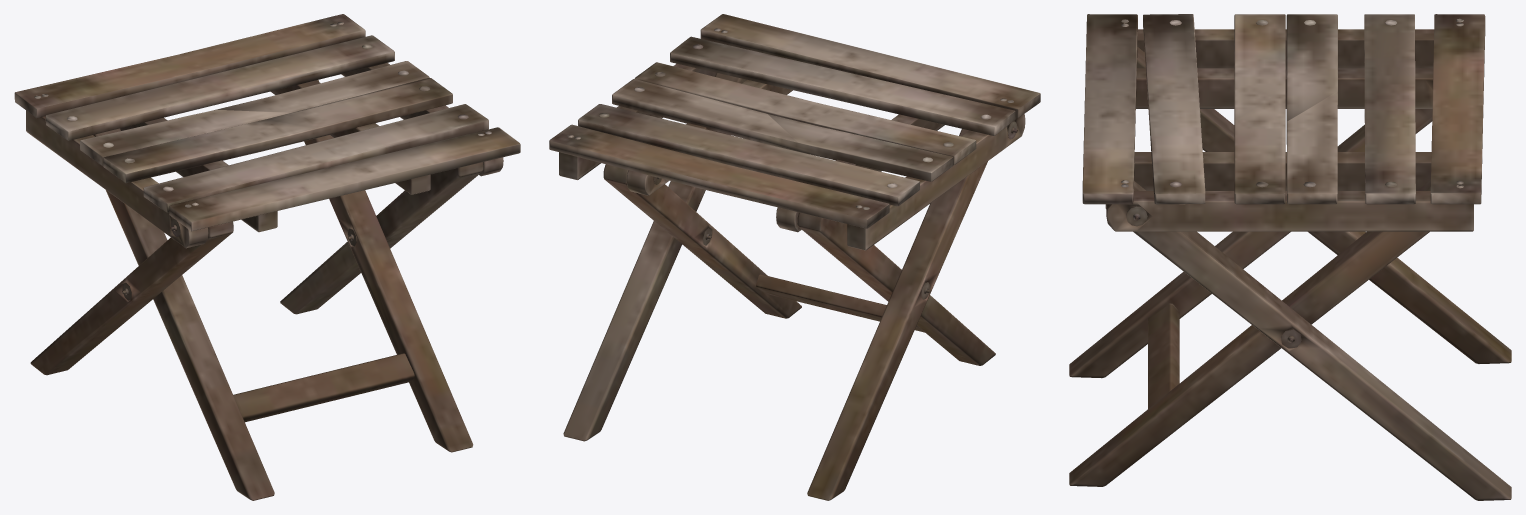
The model's file is folding_wooden_stool.6d12c183.glb.
The picture shows the model from 3 angles, left to right: view 1: azimuth 30°, elevation 25°; view 2: azimuth 150°, elevation 25°; view 3: azimuth 270°, elevation 25°; orthographic projection. The views are drawn at different scales.
Parts seen in each view (by area): view 1: folding_wooden_stool; view 2: folding_wooden_stool; view 3: folding_wooden_stool.
Boxes of the visible parts, x1=… form: folding_wooden_stool: x1=14, y1=14, x2=520, y2=500; folding_wooden_stool: x1=549, y1=14, x2=1040, y2=500; folding_wooden_stool: x1=1069, y1=14, x2=1511, y2=500.
Bounding box in the file's own units: 0.527 × 0.442 × 0.5471.
Materials: 1 (1 with a texture image).
